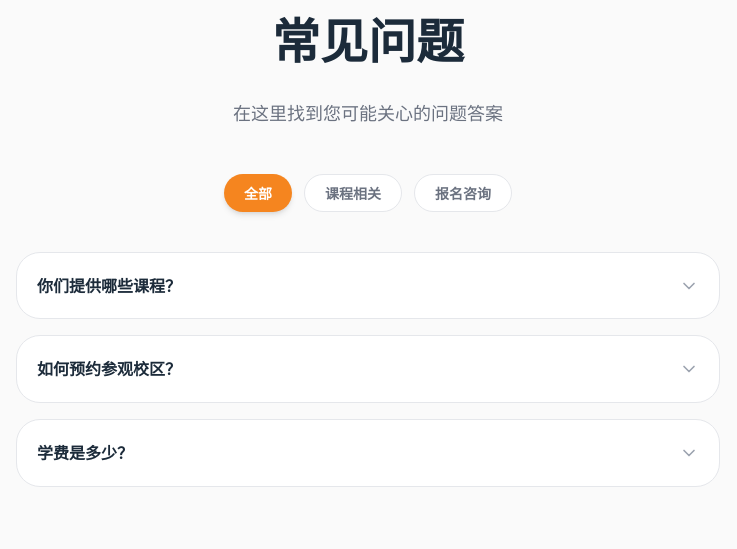
Test: FaqPage 页面 › 点击问题展开答案
Expected: the text "你们提供哪些课程？" is shown, [37, 273, 181, 298]
Expected: the text "语言启蒙、数学思维" is not shown
Click the button "你们提供哪些课程？". click: (109, 285)
box: [17, 253, 719, 318]
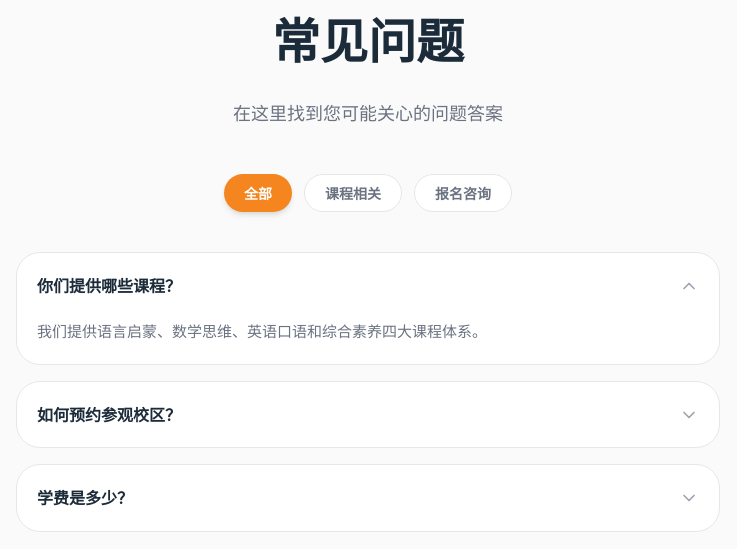
Now the text "我们提供语言启蒙、数学思维、英语口语和综合素养四大课程体系。" is shown, box [37, 320, 487, 341]
